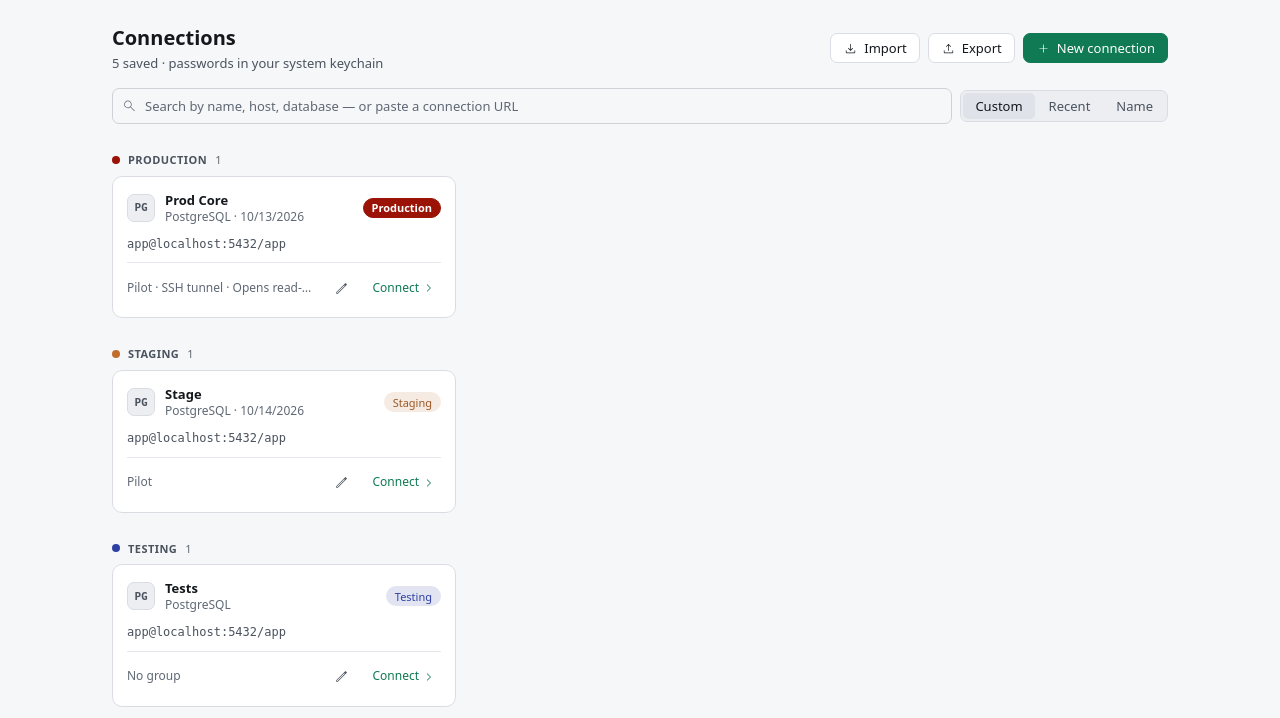
Test: Home › offers a new connection for a pasted ADO.NET string too
The image size is (1280, 718).
Step 1. Type "Server=tcp:db.internal,1433;Database=shop;User ID=app" into the field named "Search connections" → (532,106), box [112,88,952,124]
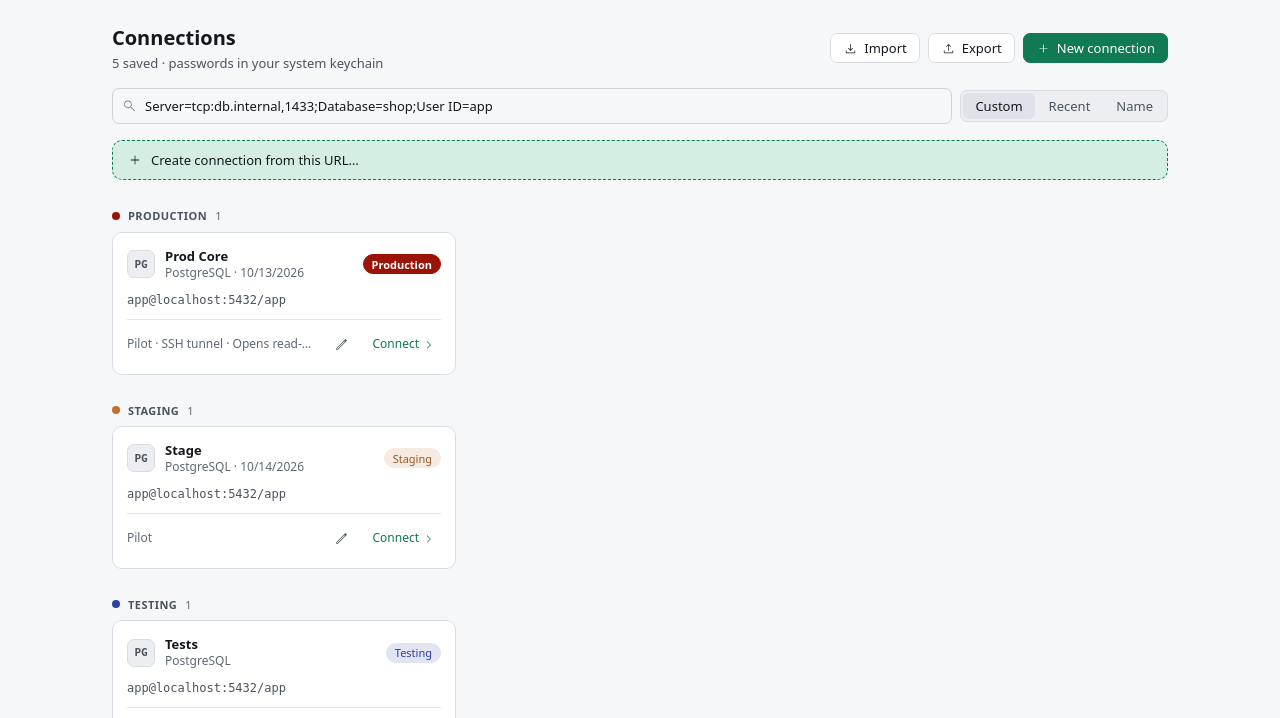
Expected: the button "Create connection from this URL…" is shown, [112,140,1168,180]
